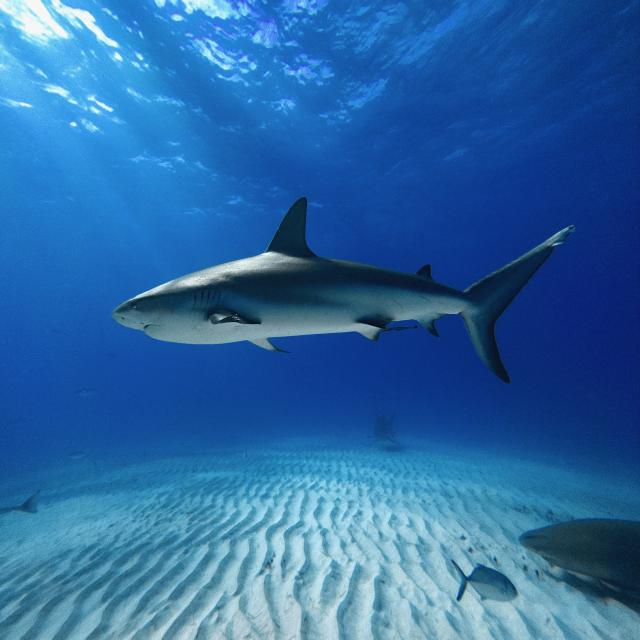shark: (112, 197, 574, 383)
